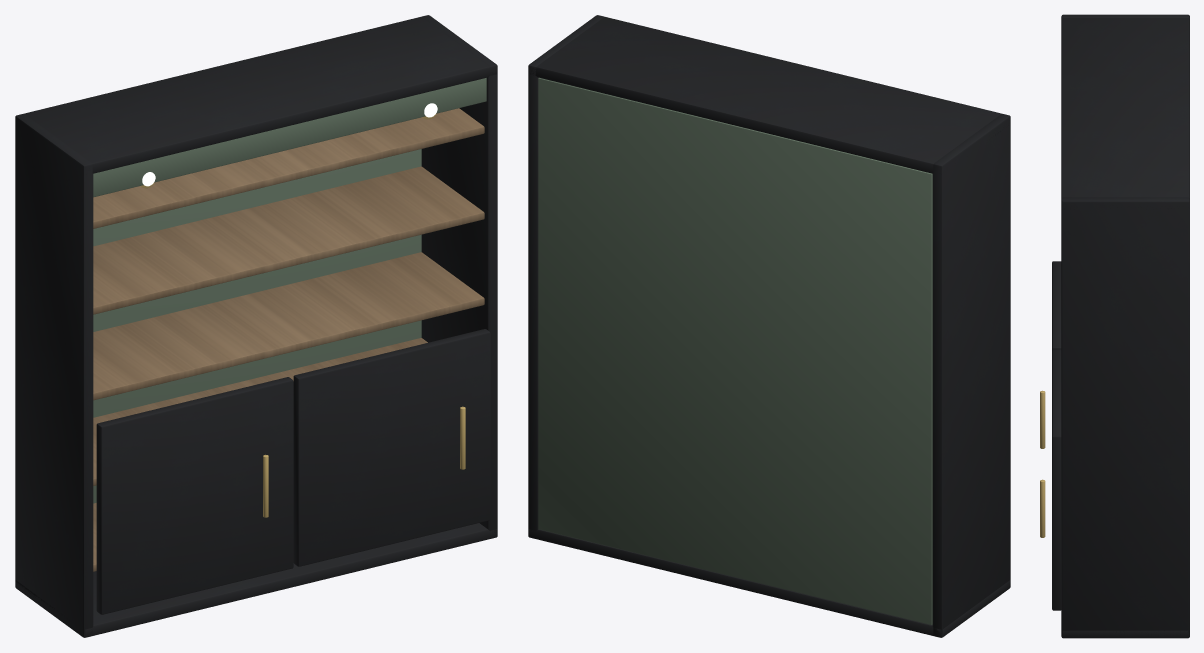
Rendered from pf_display_built_in_cabinetry_t3.glb.
3 views of the same model, side by side, from view 1: azimuth 30°, elevation 25°; view 2: azimuth 150°, elevation 25°; view 3: azimuth 270°, elevation 25° (orthographic). The views are drawn at different scales.
Visible parts, largest first — view 1: Door_Panel_01, Door_Panel_02, Case_Left, Case_Top, Shelf_04, Shelf_03, Case_Back, Case_Right, Shelf_05, Header_Back, Case_Base, Shelf_02; view 2: Case_Back, Case_Left, Case_Top, Case_Right, Case_Base; view 3: Case_Right, Case_Top, Door_Panel_02, Case_Base, Door_Panel_01, Case_Left, Door_Handle_01, Door_Handle_02.
Boxes of the visible parts, x1,y1,x2,y2 form: Door_Panel_01: (96,377,293,614); Door_Panel_02: (293,329,490,566); Case_Left: (15,113,93,637); Case_Top: (24,17,496,173); Shelf_04: (93,166,484,314); Shelf_03: (93,252,484,400); Case_Back: (93,149,421,503); Case_Right: (421,15,497,538); Shelf_05: (93,108,484,228); Header_Back: (93,78,486,197); Case_Base: (15,523,496,637); Shelf_02: (93,338,427,485); Case_Back: (538,77,932,624); Case_Left: (932,113,1010,637); Case_Top: (529,17,1009,173); Case_Right: (528,15,604,538); Case_Base: (528,529,1010,637); Case_Right: (1061,197,1189,638); Case_Top: (1061,18,1189,209); Door_Panel_02: (1052,350,1061,610); Case_Base: (1062,630,1188,638); Door_Panel_01: (1052,261,1061,350); Case_Left: (1061,14,1189,19); Door_Handle_01: (1040,390,1045,448); Door_Handle_02: (1040,479,1045,537).
Bounding box in the file's own units: 2 × 2.18 × 0.677.
6 materials, 2 textured.
